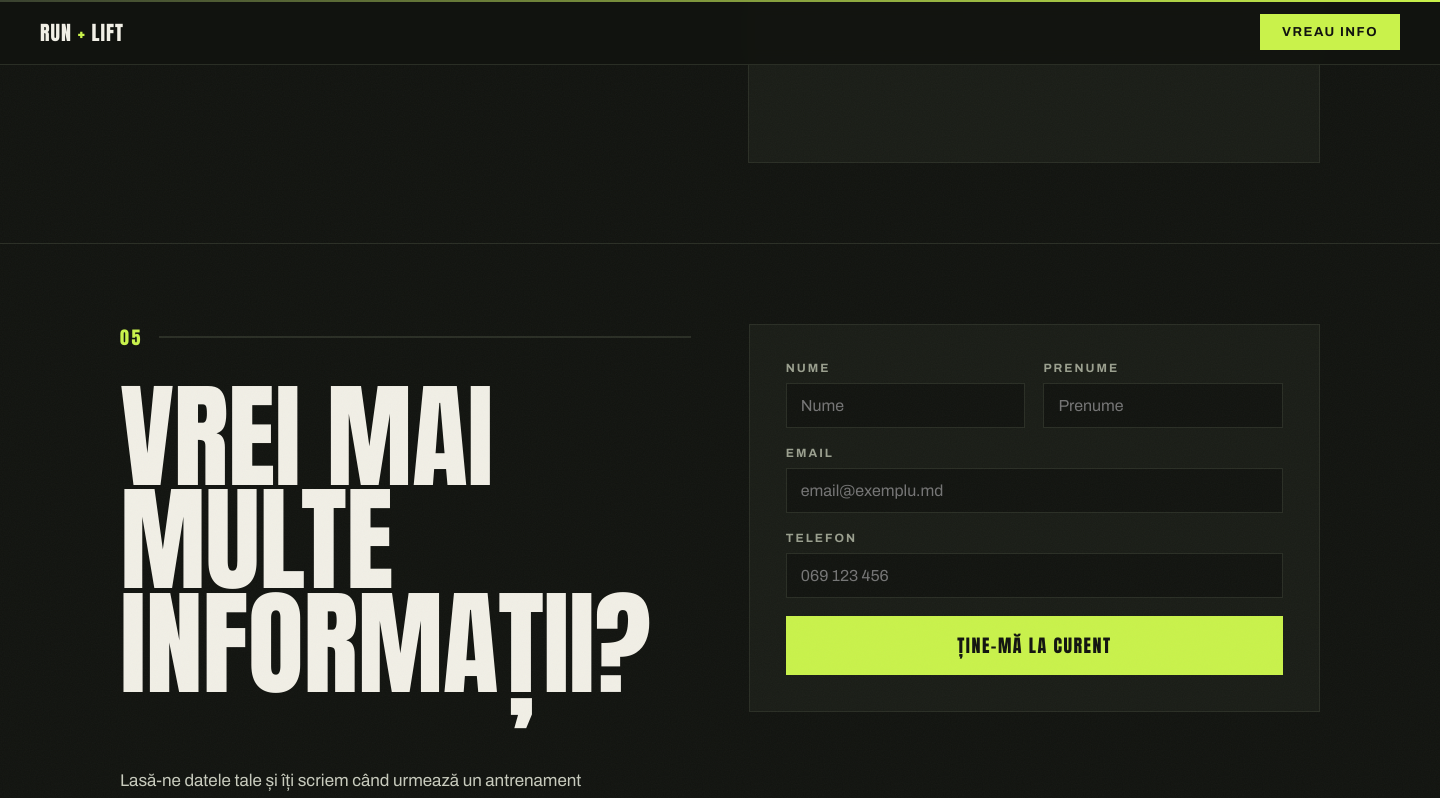
it: pagina Despre noi › succesul (200) păstrează confirmarea emailului
(page scrolled)
Type "Popescu" into the field labelled "Nume" at (906, 405), box [786, 383, 1025, 428]
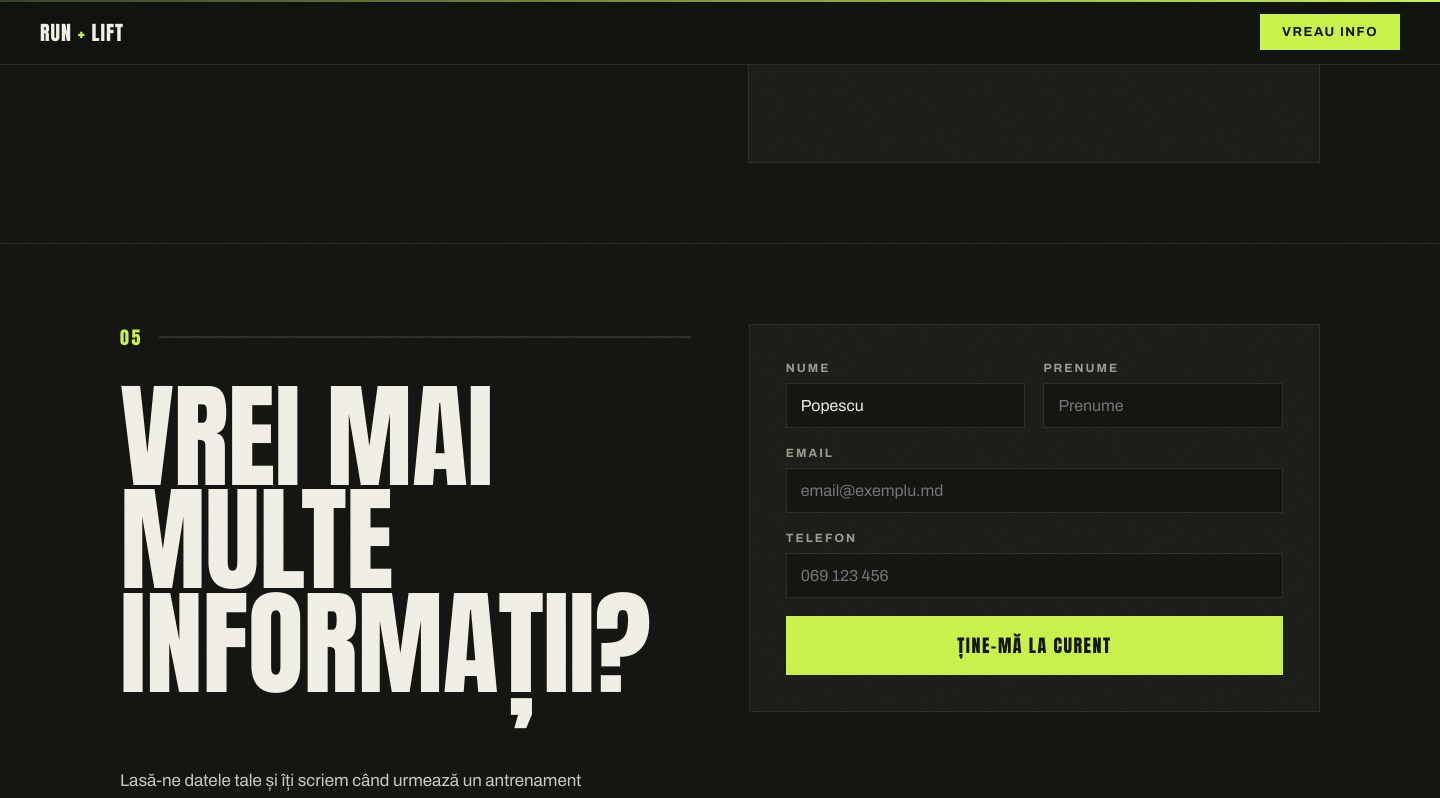
Type "Ana" into the field labelled "Prenume" at (1163, 405), box [1043, 383, 1283, 428]
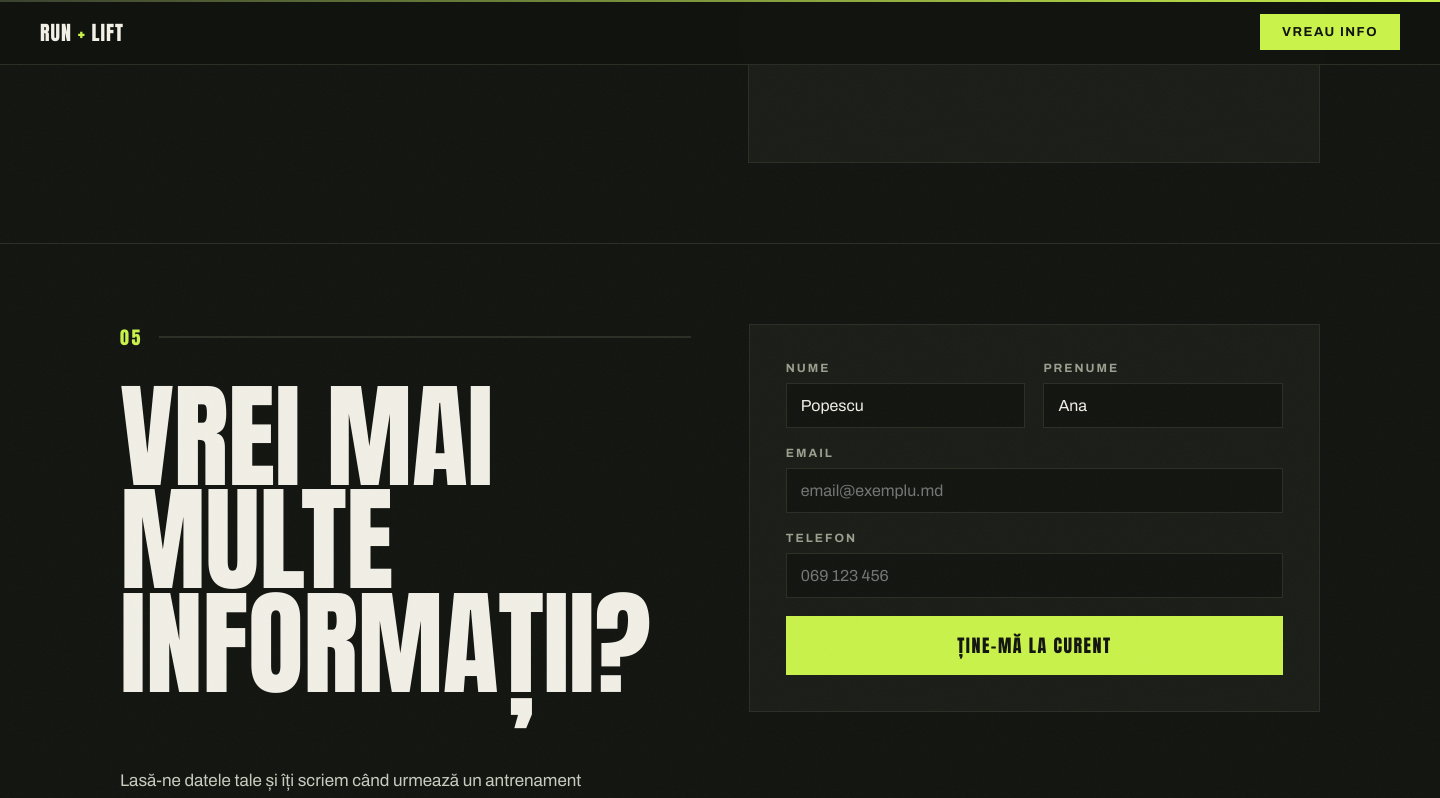
Type "ana@example.com" into the field labelled "Email" at (1034, 490), box [786, 468, 1283, 513]
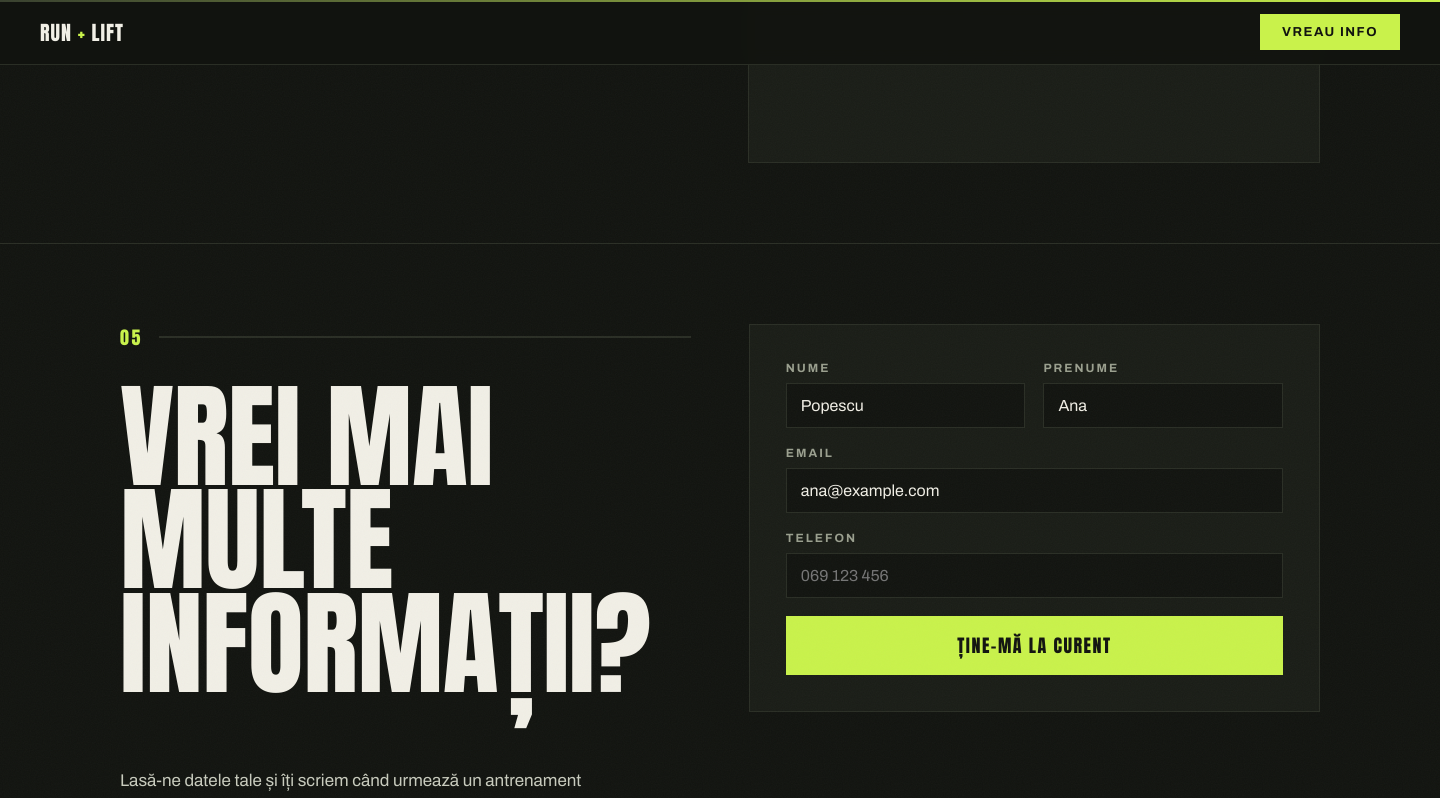
Type "069123456" into the field labelled "Telefon" at (1034, 575), box [786, 553, 1283, 598]
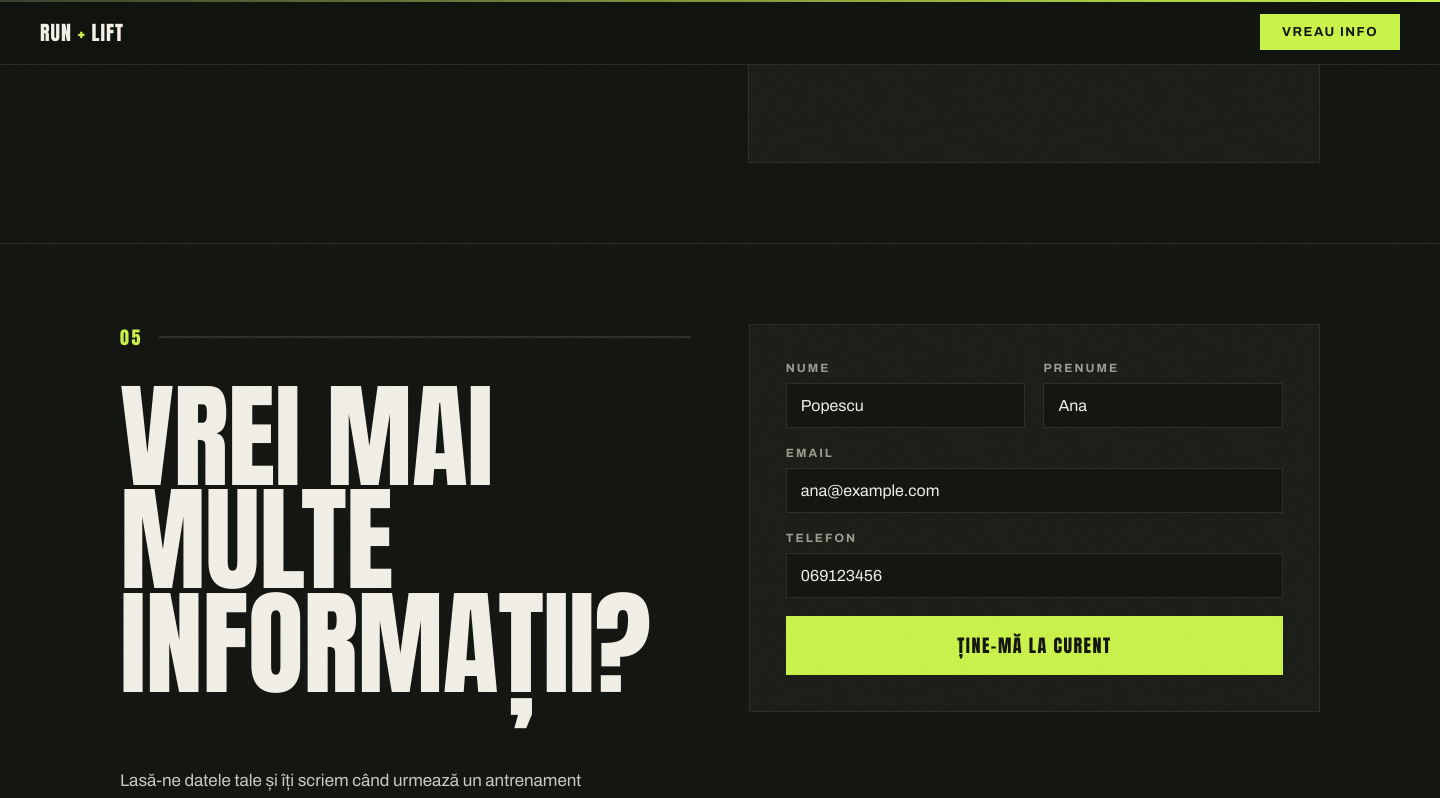
Click the button "Ține-mă la curent" at (1034, 645), box [786, 616, 1283, 675]
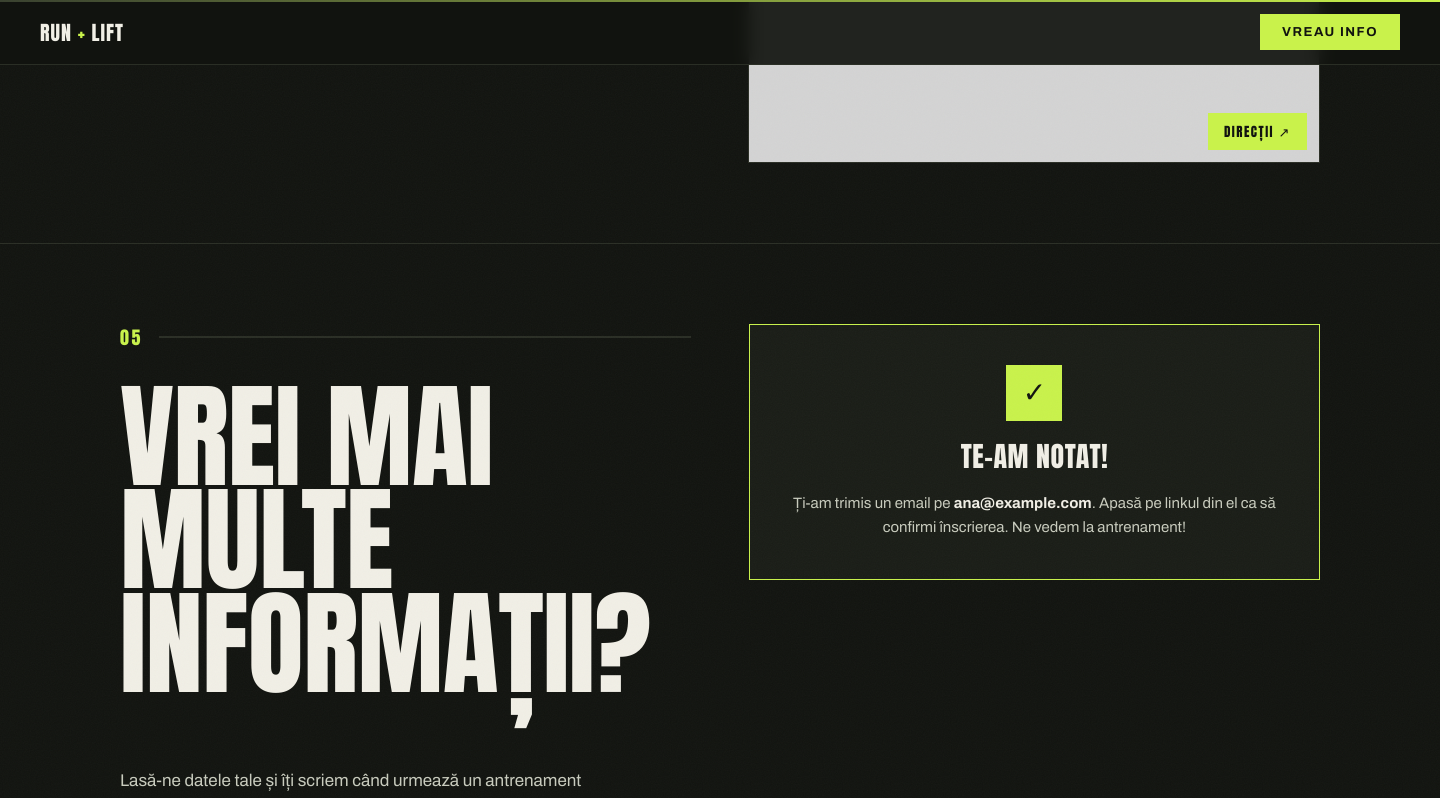
Now the heading "Te-am notat!" is shown, box [961, 435, 1108, 477]
Now the text "ana@example.com" is shown, box [954, 495, 1092, 511]
